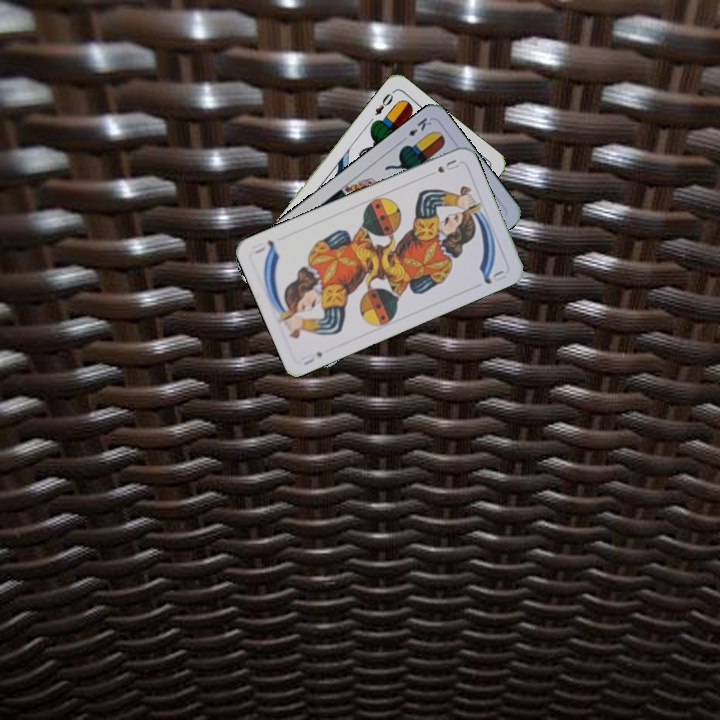EK: (397, 113, 434, 145)
EO: (371, 89, 396, 118)
SU: (433, 155, 462, 176), (297, 347, 325, 368)
